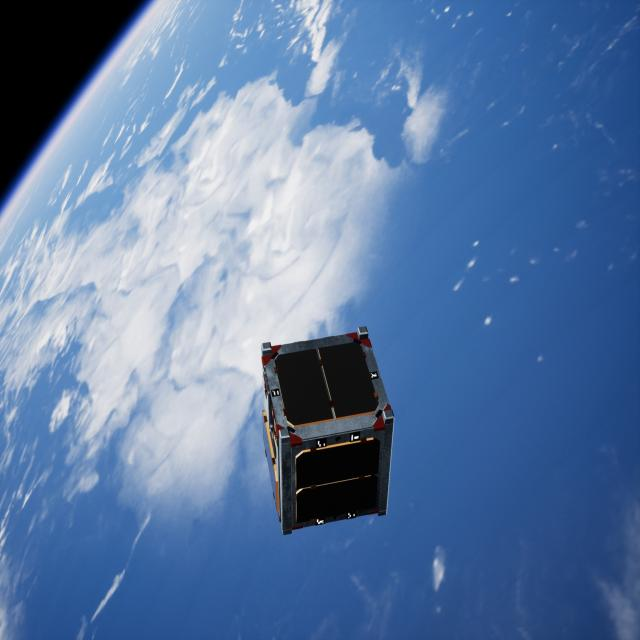satellite: (259, 323, 401, 539)
